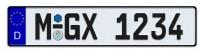1: (115, 12, 131, 41)
2: (133, 11, 149, 41)
3: (151, 11, 167, 40)
4: (168, 12, 184, 40)
G: (64, 12, 80, 41)
M: (34, 12, 52, 41)
X: (82, 12, 98, 41)
